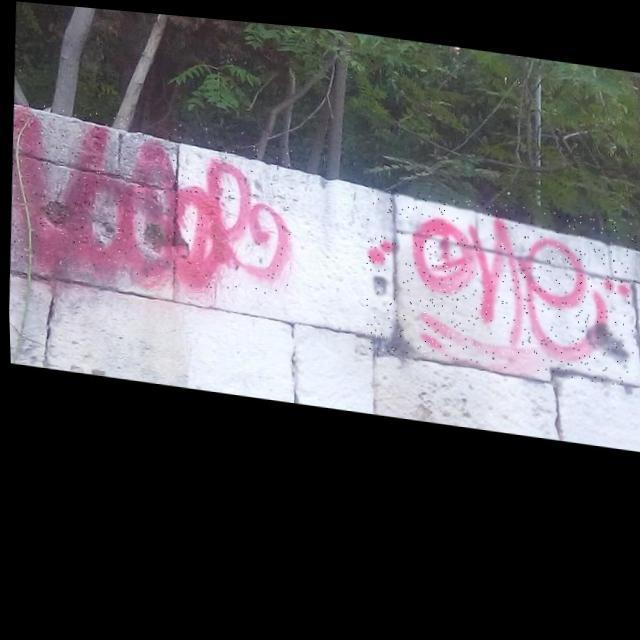-: (5, 98, 298, 296), (359, 178, 639, 376)
